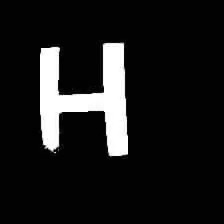LTR_H: (26, 36, 131, 169)
